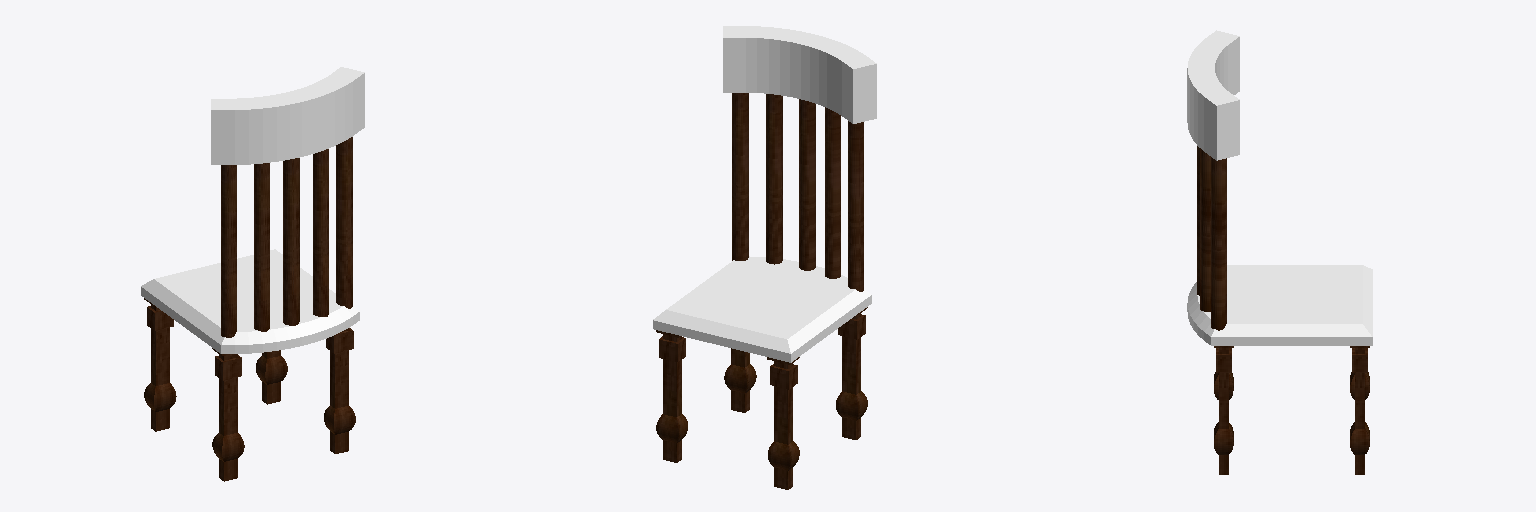
3 renders of one model, left to right at view 1: azimuth 30°, elevation 25°; view 2: azimuth 150°, elevation 25°; view 3: azimuth 270°, elevation 25°, orthographic.
Visible parts, largest first — view 1: Composant_1_ID68, group_0_ID16, group_0_ID3, Chaise_pied_ID55, Chaise_pied_ID26; view 2: group_0_ID3, Composant_1_ID68, group_0_ID16, Chaise_pied_ID55, Chaise_pied_ID26; view 3: group_0_ID3, group_0_ID16, Composant_1_ID68, Chaise_pied_ID55, Chaise_pied_ID26.
Boxes of the visible parts, box(x1,y1,x2,y2) form: Composant_1_ID68: box(221, 137, 352, 337); group_0_ID16: box(211, 67, 364, 164); group_0_ID3: box(141, 249, 359, 353); Chaise_pied_ID55: box(144, 328, 355, 481); Chaise_pied_ID26: box(147, 306, 353, 380); group_0_ID3: box(653, 256, 871, 362); Composant_1_ID68: box(732, 93, 863, 291); group_0_ID16: box(723, 26, 876, 123); Chaise_pied_ID55: box(656, 336, 867, 489); Chaise_pied_ID26: box(659, 314, 865, 389); group_0_ID3: box(1187, 265, 1372, 345); group_0_ID16: box(1187, 30, 1239, 160); Composant_1_ID68: box(1197, 146, 1226, 330); Chaise_pied_ID55: box(1214, 372, 1369, 474); Chaise_pied_ID26: box(1216, 348, 1367, 372).
Size of the model in its own units: 0.3655 by 0.85 by 0.3793.
Materials: 2 (1 with a texture image).